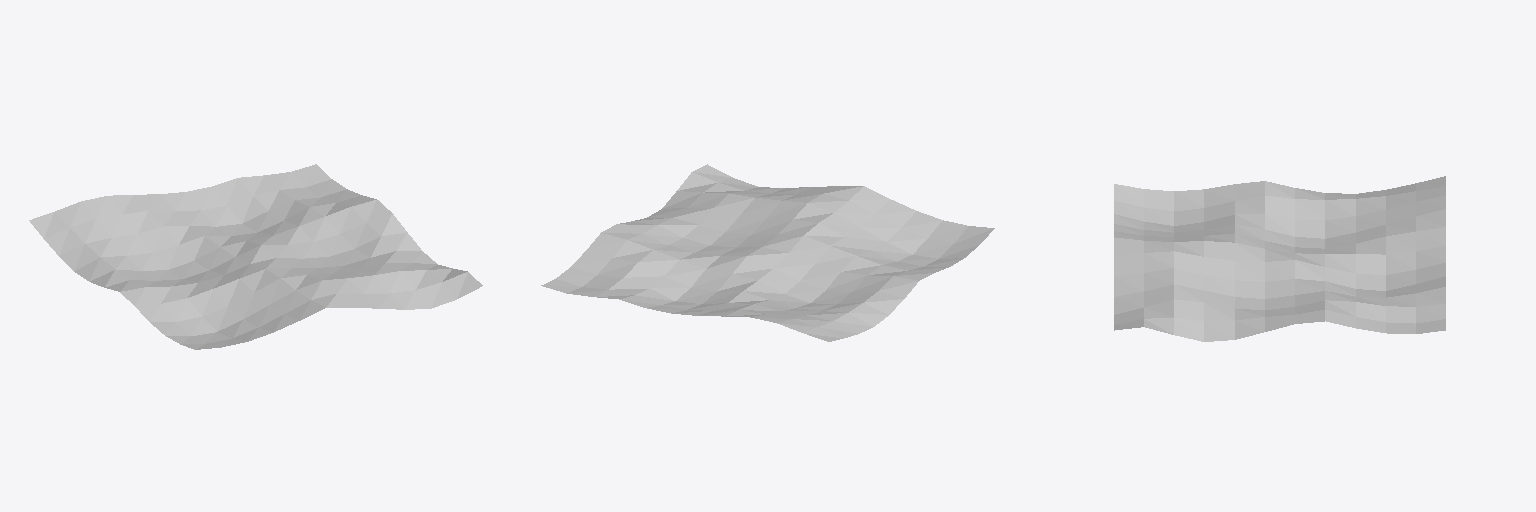
File: terrain1.obj
3 views of the same model, side by side, from view 1: azimuth 30°, elevation 25°; view 2: azimuth 150°, elevation 25°; view 3: azimuth 270°, elevation 25° (orthographic).
Parts seen in each view (by area): view 1: Plane; view 2: Plane; view 3: Plane.
Boxes of the visible parts, <box> form: Plane: <box>29,164,482,349</box>; Plane: <box>541,164,994,341</box>; Plane: <box>1114,176,1445,341</box>.
Bounding box in the file's own units: 40 × 4.26 × 40.